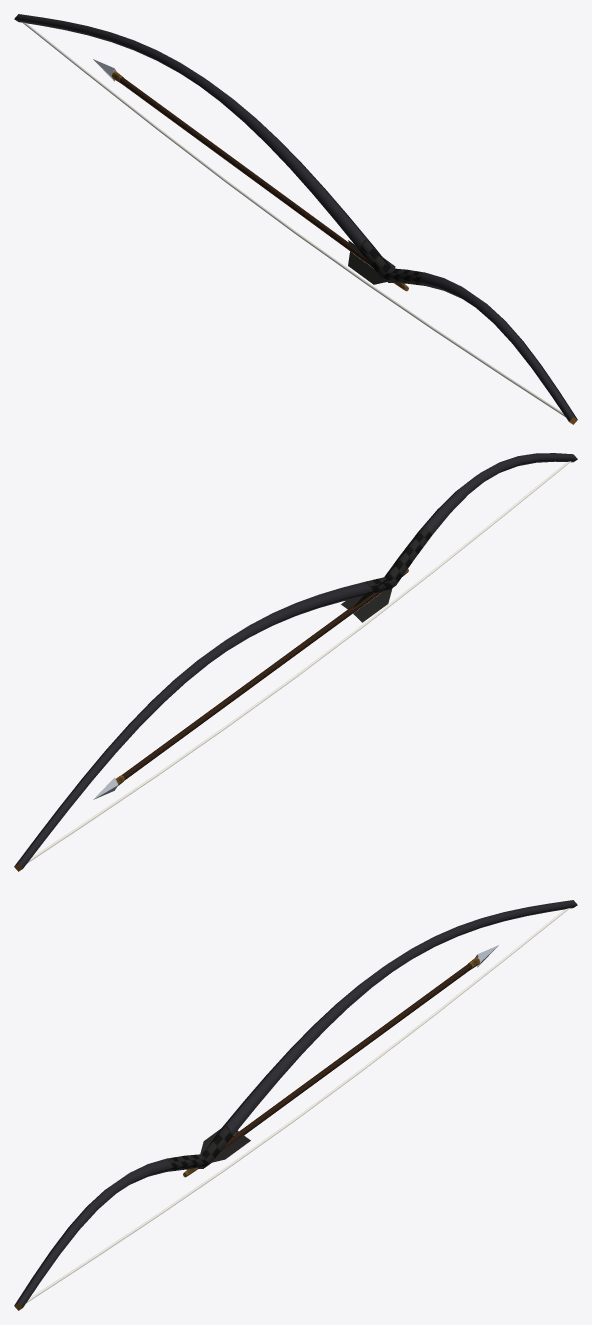
File: yumi.glb
3 renders of one model, top to bottom at view 1: azimuth 30°, elevation 25°; view 2: azimuth 150°, elevation 25°; view 3: azimuth 330°, elevation 25°, orthographic.
Parts seen in each view (by area): view 1: main, arrow; view 2: main, arrow; view 3: main, arrow.
Boxes of the visible parts, x1,y1,x2,y2 form: main: (14, 14, 577, 424); arrow: (93, 59, 408, 291); main: (14, 453, 577, 871); arrow: (93, 569, 408, 799); main: (14, 900, 577, 1310); arrow: (183, 945, 498, 1177).
Bounding box in the file's own units: 0.0345 × 0.1334 × 1.5.
6 materials, 4 textured.
